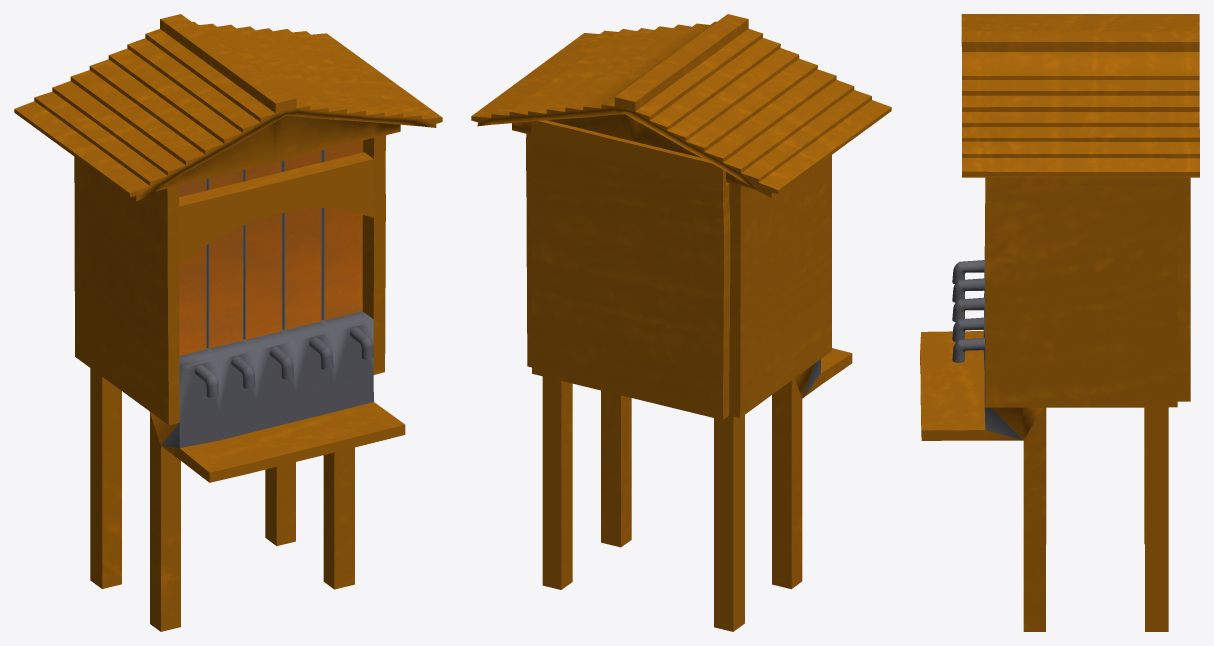
File: Prop_Beehive_Lvl1 1.fbx
The picture shows the model from 3 angles, left to right: view 1: azimuth 30°, elevation 25°; view 2: azimuth 150°, elevation 25°; view 3: azimuth 270°, elevation 25°; orthographic projection. The views are drawn at different scales.
Visible parts, largest first — view 1: Beehive; view 2: Beehive; view 3: Beehive.
Boxes of the visible parts, x1=… form: Beehive: x1=14, y1=14, x2=442, y2=631; Beehive: x1=471, y1=14, x2=891, y2=631; Beehive: x1=920, y1=14, x2=1199, y2=631.
Size of the model in its own units: 1.68 by 2.72 by 1.27.
1 material, 1 textured.
